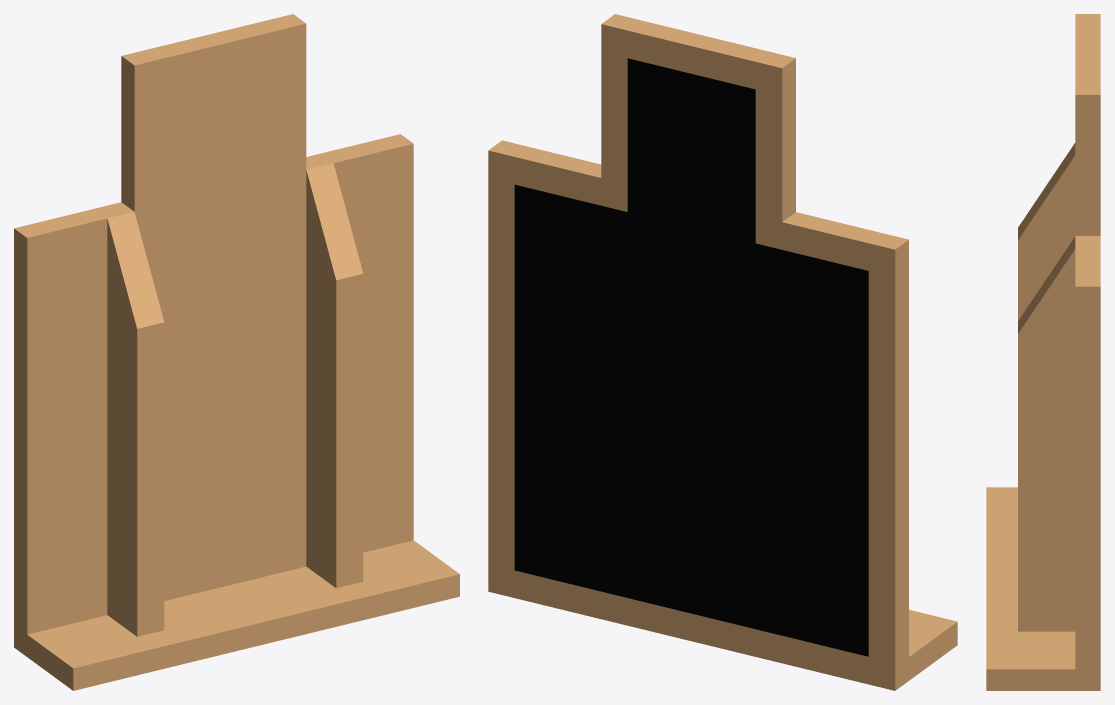
Rendered from target.gltf.
The picture shows the model from 3 angles, left to right: view 1: azimuth 30°, elevation 25°; view 2: azimuth 150°, elevation 25°; view 3: azimuth 270°, elevation 25°; orthographic projection. The views are drawn at different scales.
Parts seen in each view (by area): view 1: Target; view 2: Target; view 3: Target.
Part boxes in pixels (x1,y1,x2,y2): Target: [14, 14, 459, 690]; Target: [488, 14, 957, 690]; Target: [986, 14, 1100, 690].
Size of the model in its own units: 3.59 by 5.02 by 0.9548.
